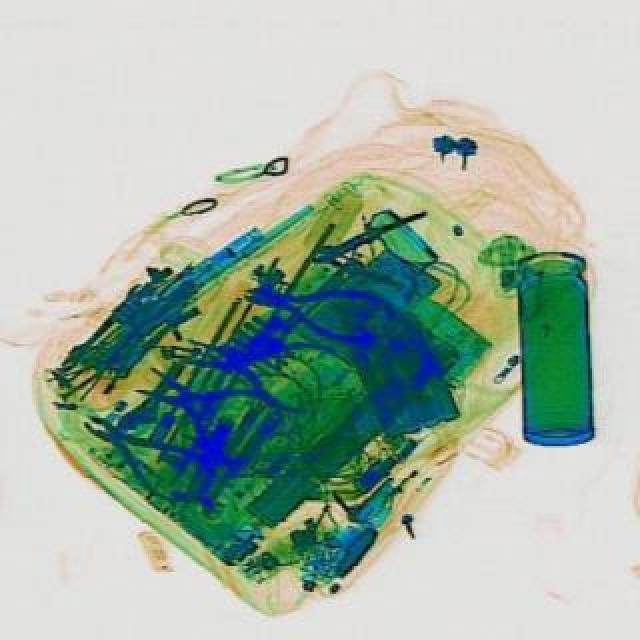wrench: (122, 342, 292, 474), (170, 312, 338, 416), (66, 394, 212, 508), (236, 260, 396, 350)
